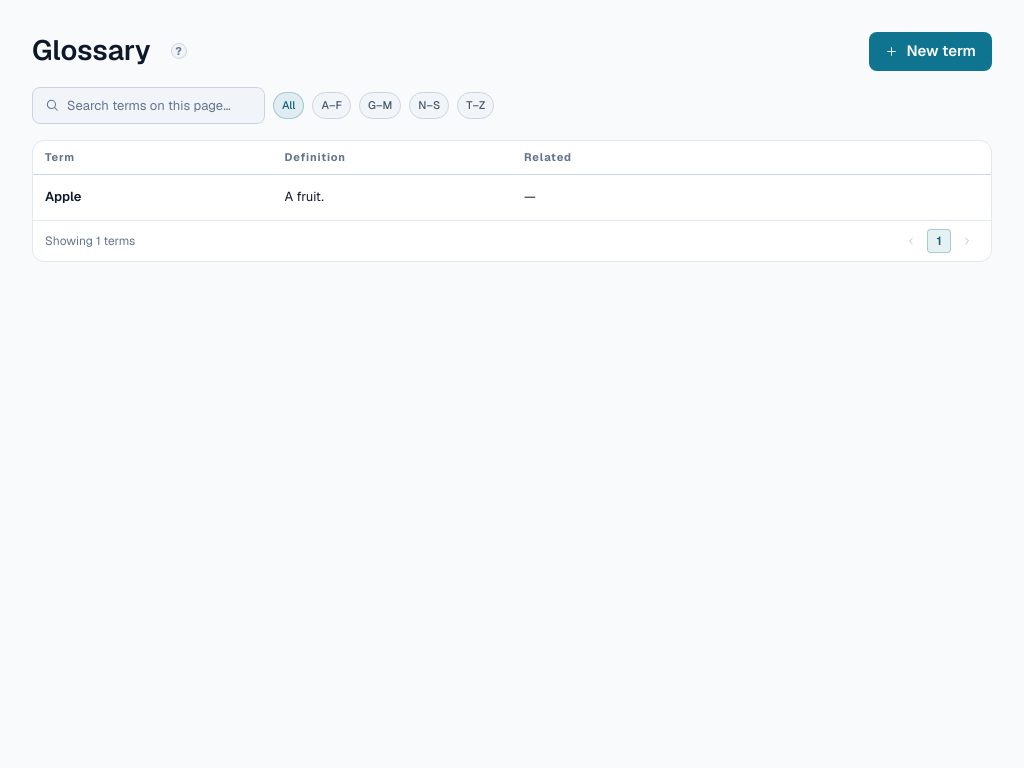
Test: GlossaryPage › renders a sh:uniqueLang 422 as a plain-language error anchored in the drawer, not a toast (AC-002-04)
Check: the text "Apple" is shown, box x1=45 y1=187 x2=81 y2=207
Click the button "New term". click: (931, 51)
box: x1=869 y1=32 x2=992 y2=70
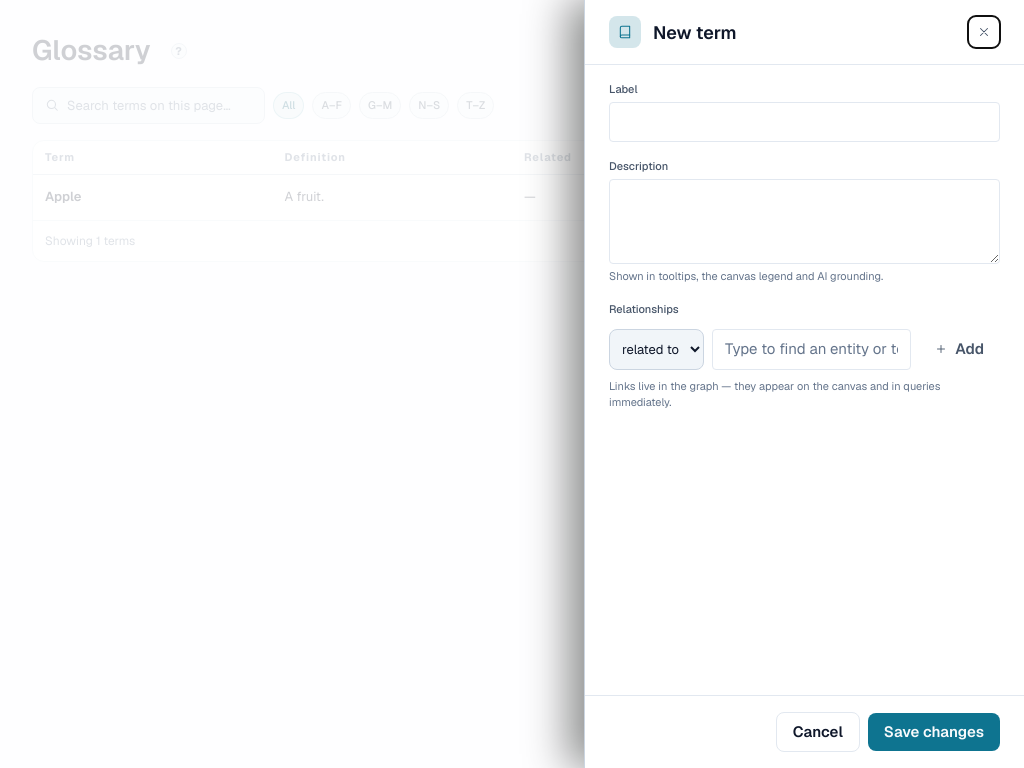
Type "Apple" into the field labelled "Label". click: (804, 122)
box: x1=609 y1=102 x2=1000 y2=142
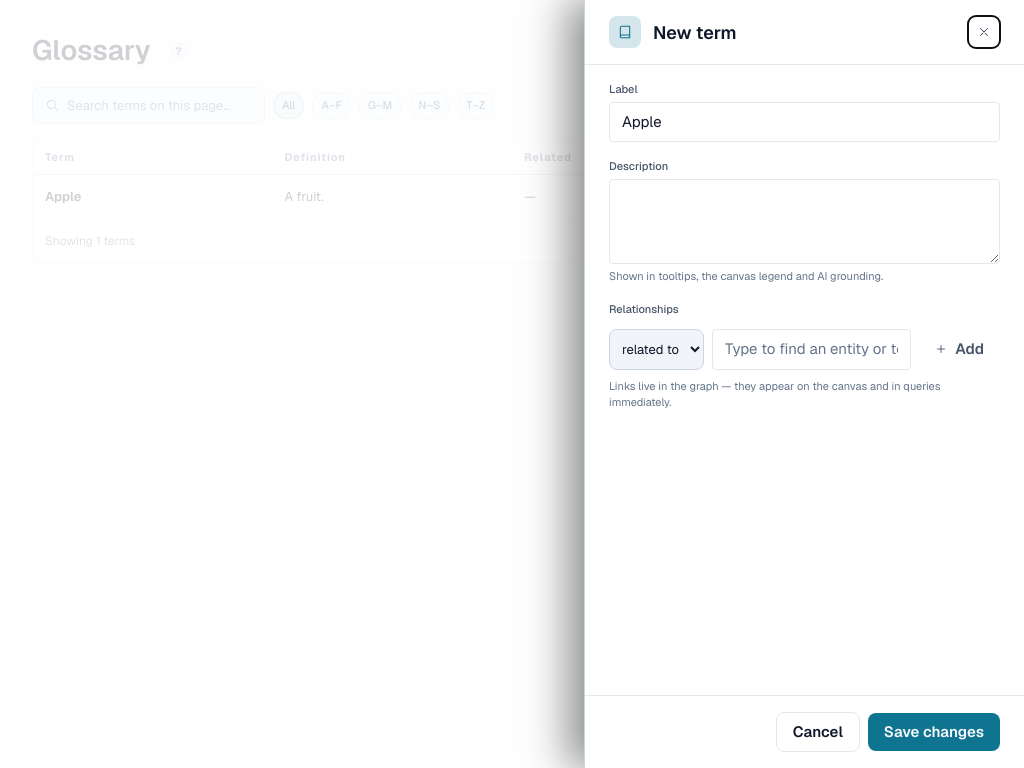
Click the button "Save changes". click: (934, 732)
box: x1=868 y1=712 x2=1000 y2=751
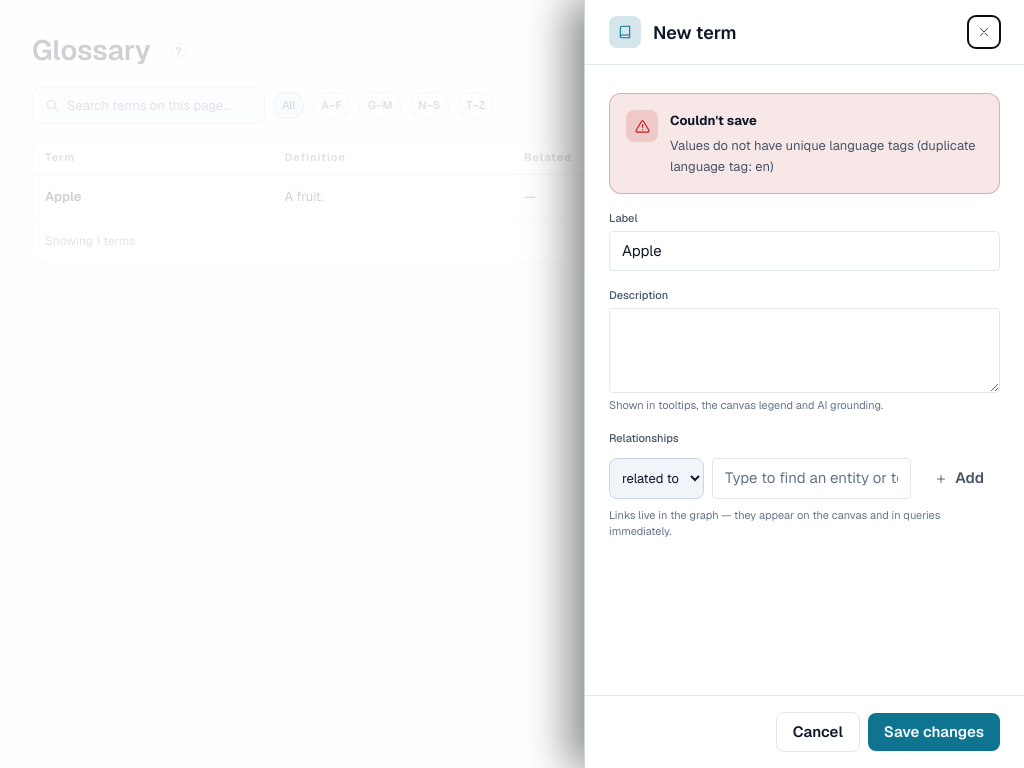
Check: the dialog is shown, box x1=584 y1=0 x2=1023 y2=767
Check: the message shows "duplicate language tag", box x1=670 y1=137 x2=976 y2=175
